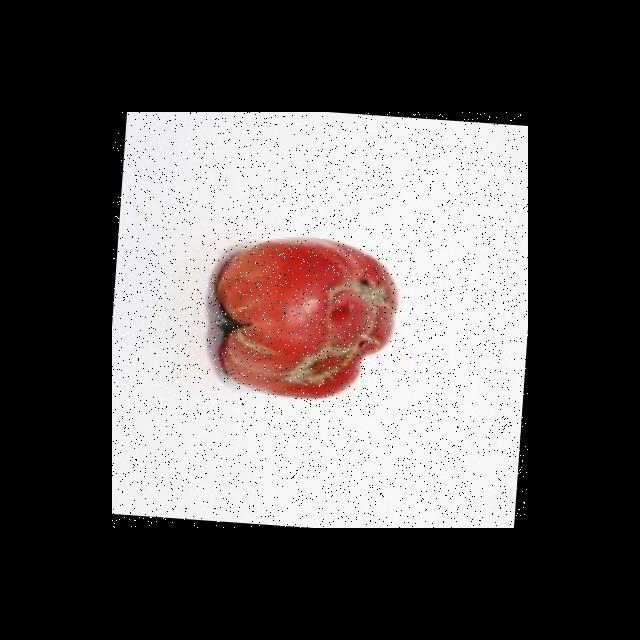tomato: (203, 229, 403, 414)
